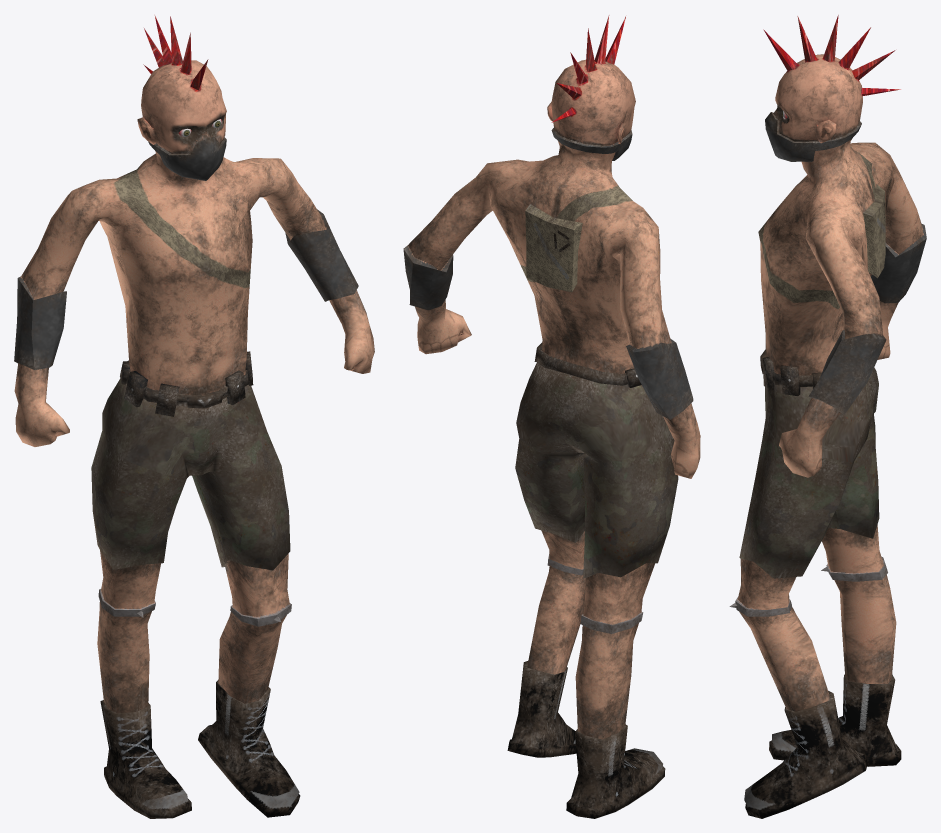
Rendered from Anim_ataque_f2_npc2.0010.obj.
3 renders of one model, left to right at view 1: azimuth 30°, elevation 25°; view 2: azimuth 150°, elevation 25°; view 3: azimuth 270°, elevation 25°, orthographic. The views are drawn at different scales.
Parts seen in each view (by area): view 1: polySurface1; view 2: polySurface1; view 3: polySurface1.
Boxes of the visible parts, bbox=[...] form: polySurface1: bbox=[14, 15, 374, 818]; polySurface1: bbox=[403, 15, 700, 818]; polySurface1: bbox=[729, 15, 926, 818].
Bounding box in the file's own units: 4.42 × 10.28 × 2.4.
